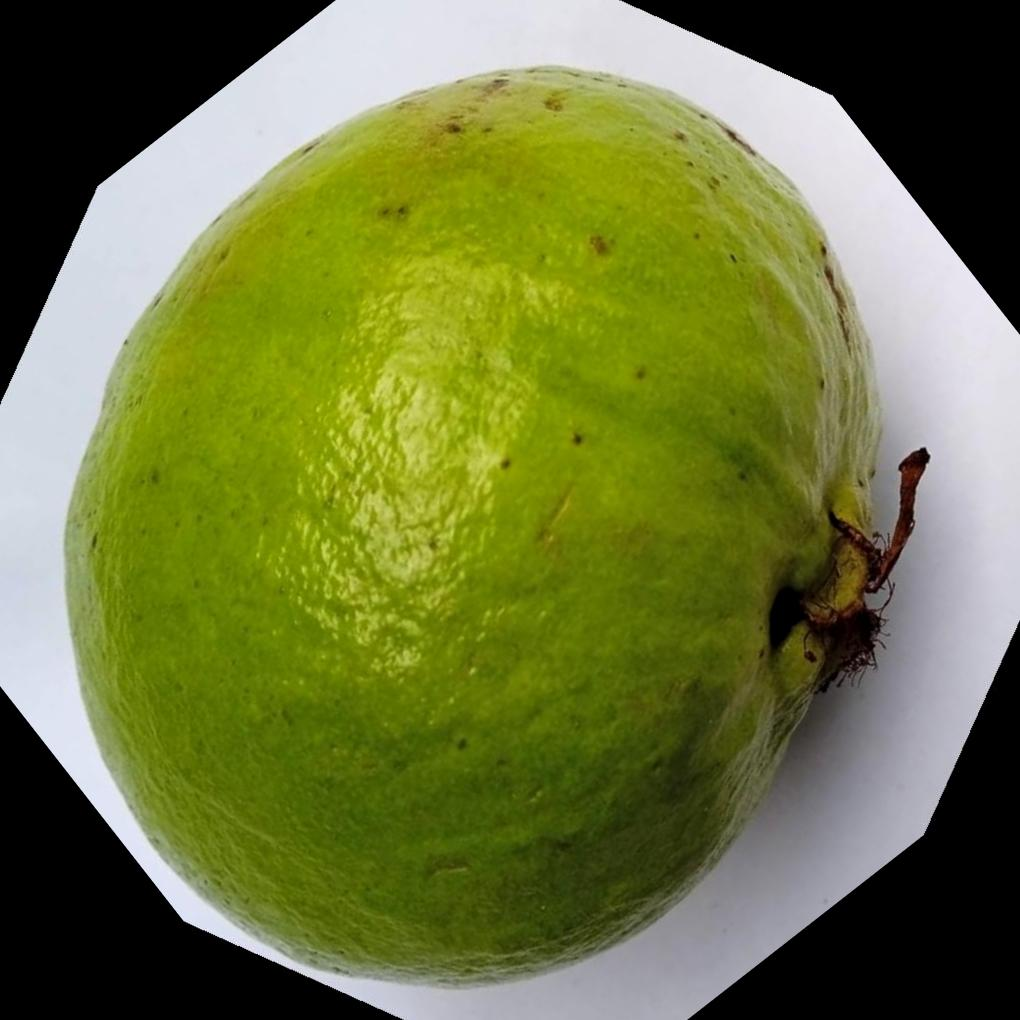FreshGuava: (61, 65, 926, 992)
